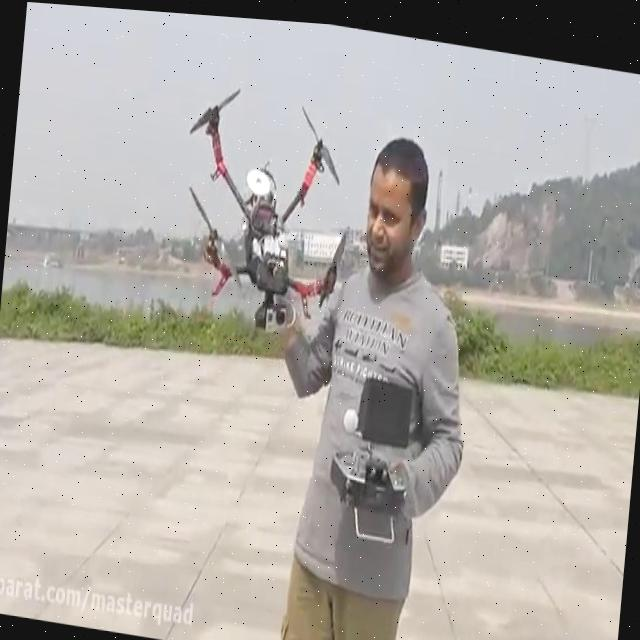drone: (168, 68, 360, 340)
